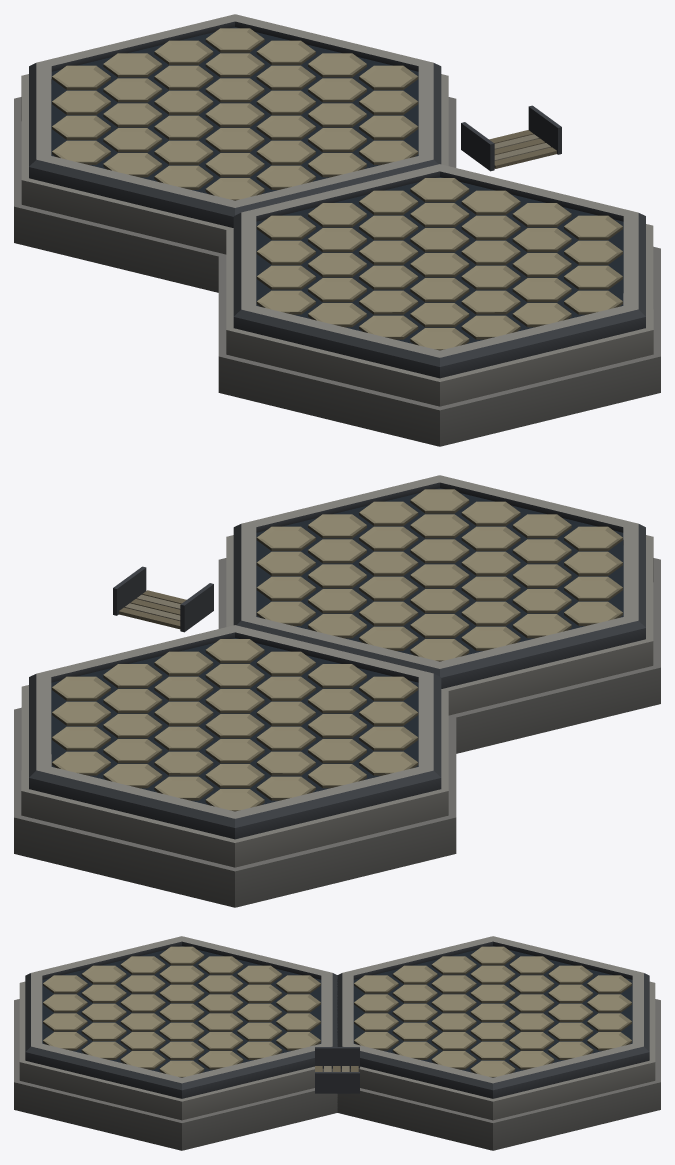
The model's file is scene_dual_slab.glb.
3 views of the same model, one above another, from view 1: azimuth 30°, elevation 25°; view 2: azimuth 150°, elevation 25°; view 3: azimuth 270°, elevation 25° (orthographic). The views are drawn at different scales.
Visible parts, largest first — view 1: scene_dual_slab_n, scene_dual_slab_s, scene_dual_prop_plank, scene_dual_cell_005, scene_dual_cell_016, scene_dual_cell_024, scene_dual_cell_026, scene_dual_cell_027, scene_dual_cell_034, scene_dual_cell_036, scene_dual_cell_n003, scene_dual_cell_n013 (+65 smaller); view 2: scene_dual_slab_s, scene_dual_slab_n, scene_dual_prop_plank, scene_dual_cell_015, scene_dual_cell_018, scene_dual_cell_023, scene_dual_cell_030, scene_dual_cell_033, scene_dual_cell_n005, scene_dual_cell_n007, scene_dual_cell_n019, scene_dual_cell_n027 (+65 smaller); view 3: scene_dual_slab_s, scene_dual_slab_n, scene_dual_prop_plank, scene_dual_cell_009, scene_dual_cell_n002, scene_dual_cell_002, scene_dual_cell_n009, scene_dual_cell_005, scene_dual_cell_n005, scene_dual_cell_000, scene_dual_cell_n000, scene_dual_cell_004 (+65 smaller).
Part boxes in pixels (x1,y1,x2,y2): scene_dual_slab_n: (218, 164, 660, 446); scene_dual_slab_s: (14, 14, 456, 292); scene_dual_prop_plank: (461, 105, 561, 171); scene_dual_cell_005: (103, 128, 162, 152); scene_dual_cell_016: (205, 153, 264, 177); scene_dual_cell_024: (256, 115, 315, 139); scene_dual_cell_026: (256, 65, 315, 89); scene_dual_cell_027: (256, 40, 315, 64); scene_dual_cell_034: (359, 115, 418, 139); scene_dual_cell_036: (359, 65, 418, 89); scene_dual_cell_n003: (256, 215, 315, 239); scene_dual_cell_n013: (359, 215, 418, 239); scene_dual_slab_s: (14, 625, 456, 907); scene_dual_slab_n: (218, 475, 660, 753); scene_dual_prop_plank: (113, 566, 213, 632); scene_dual_cell_015: (359, 676, 418, 700); scene_dual_cell_018: (205, 714, 264, 738); scene_dual_cell_023: (256, 676, 315, 700); scene_dual_cell_030: (154, 676, 213, 700); scene_dual_cell_033: (205, 639, 264, 663); scene_dual_cell_n005: (512, 589, 571, 613); scene_dual_cell_n007: (410, 614, 469, 638); scene_dual_cell_n019: (359, 576, 418, 600); scene_dual_cell_n027: (256, 576, 315, 600); scene_dual_slab_s: (337, 936, 660, 1150); scene_dual_slab_n: (14, 936, 337, 1150); scene_dual_prop_plank: (315, 1047, 359, 1093); scene_dual_cell_009: (392, 965, 437, 984); scene_dual_cell_n002: (237, 965, 282, 984); scene_dual_cell_002: (548, 965, 593, 984); scene_dual_cell_n009: (81, 965, 126, 984); scene_dual_cell_005: (470, 965, 515, 984); scene_dual_cell_n005: (159, 965, 204, 984); scene_dual_cell_000: (470, 946, 515, 965); scene_dual_cell_n000: (159, 946, 204, 965); scene_dual_cell_004: (431, 956, 476, 974).
Size of the model in its own units: 8.64 by 1.8 by 14.41.
